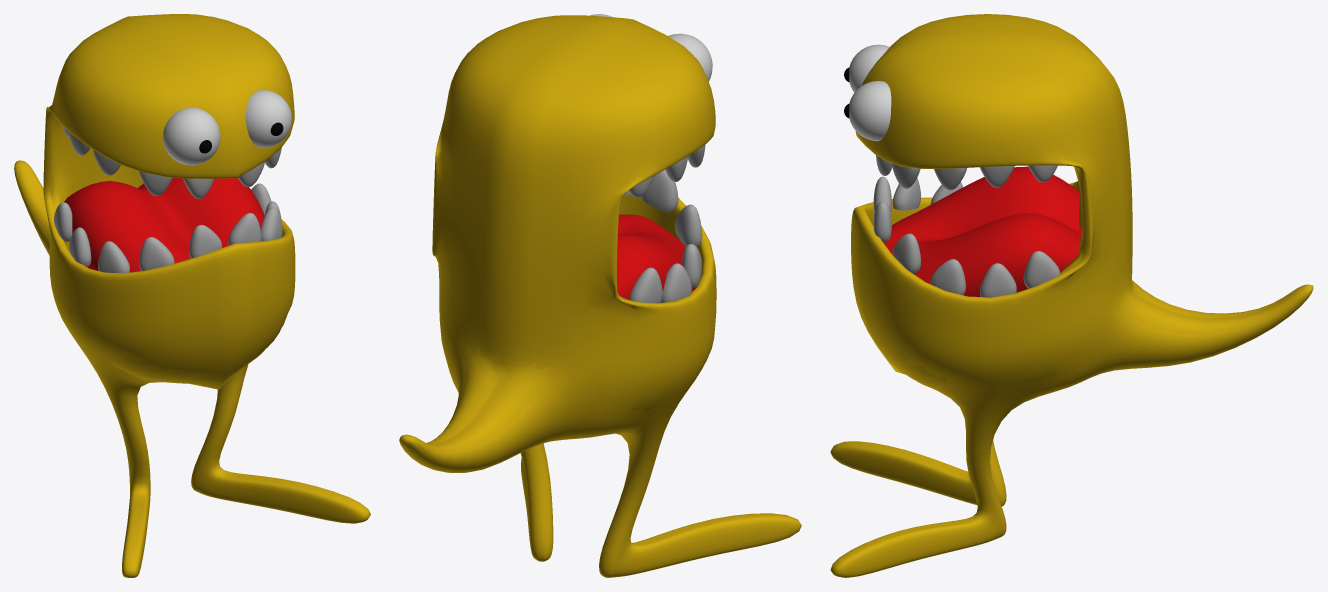
File: goldmonster.obj
The picture shows the model from 3 angles, left to right: view 1: azimuth 30°, elevation 25°; view 2: azimuth 150°, elevation 25°; view 3: azimuth 270°, elevation 25°; orthographic projection. The views are drawn at different scales.
Visible parts, largest first — view 1: Cube, Cube.001, Sphere, Cube.003, Cube.008, Cube.010, Cube.009, Cube.002, Cube.004, Cube.011; view 2: Cube, Cube.001, Cube.003, Cube.008, Cube.011, Cube.010, Sphere, Cube.009; view 3: Cube, Cube.001, Sphere, Cube.008, Cube.009, Cube.003, Cube.010, Cube.011.
Part boxes in pixels (x1=…): Cube: x1=14, y1=14, x2=370, y2=577; Cube.001: x1=64, y1=177, x2=264, y2=272; Sphere: x1=162, y1=90, x2=291, y2=165; Cube.003: x1=189, y1=213, x2=261, y2=258; Cube.008: x1=138, y1=207, x2=282, y2=271; Cube.010: x1=69, y1=183, x2=271, y2=266; Cube.009: x1=98, y1=201, x2=281, y2=273; Cube.002: x1=183, y1=161, x2=264, y2=198; Cube.004: x1=139, y1=148, x2=281, y2=195; Cube.011: x1=54, y1=202, x2=72, y2=241; Cube: x1=399, y1=15, x2=801, y2=577; Cube.001: x1=617, y1=214, x2=696, y2=299; Cube.003: x1=623, y1=169, x2=678, y2=212; Cube.008: x1=675, y1=204, x2=702, y2=247; Cube.011: x1=629, y1=267, x2=662, y2=303; Cube.010: x1=660, y1=263, x2=691, y2=302; Sphere: x1=590, y1=14, x2=712, y2=81; Cube.009: x1=682, y1=244, x2=701, y2=288; Cube: x1=830, y1=14, x2=1313, y2=577; Cube.001: x1=883, y1=166, x2=1082, y2=296; Sphere: x1=849, y1=44, x2=891, y2=141; Cube.008: x1=892, y1=178, x2=920, y2=273; Cube.009: x1=930, y1=182, x2=966, y2=295; Cube.003: x1=873, y1=176, x2=891, y2=242; Cube.010: x1=980, y1=263, x2=1016, y2=297; Cube.011: x1=1023, y1=251, x2=1060, y2=288.
Bounding box in the file's own units: 2.85 × 5.15 × 4.65.
